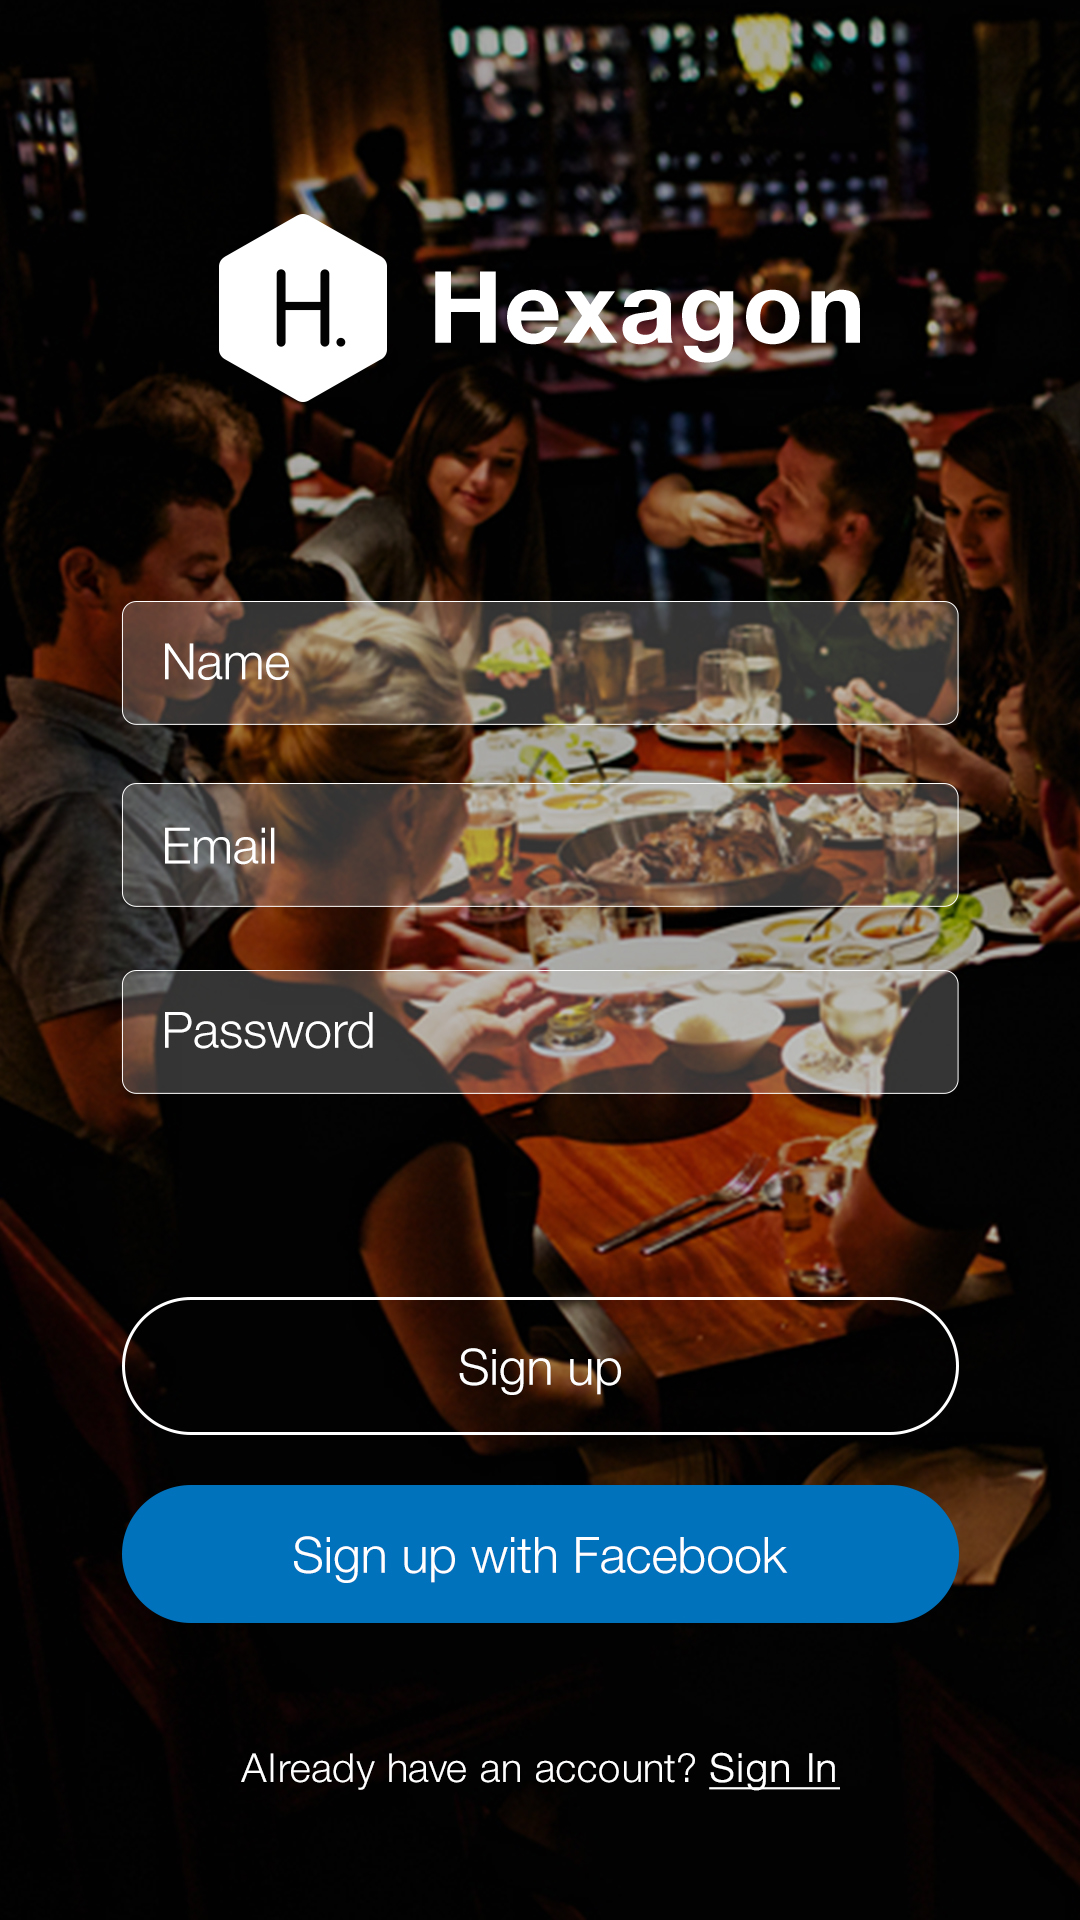BackgroundImage: (1, 1, 1080, 1920)
EditText: (123, 601, 960, 727), (123, 783, 959, 909), (123, 971, 960, 1095)
Image: (219, 214, 388, 404)
Text: (435, 272, 861, 365), (241, 1753, 841, 1792), (165, 1011, 375, 1050), (165, 644, 290, 682), (164, 827, 276, 866)
TextButton: (123, 1485, 960, 1625), (123, 1298, 960, 1436)
